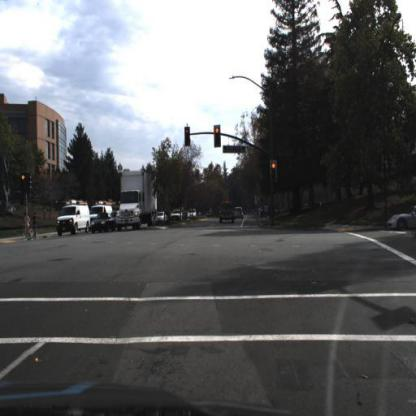biker: (17, 214, 31, 243), (24, 213, 32, 240), (33, 210, 38, 239)
car: (54, 204, 91, 235), (385, 204, 416, 234), (90, 203, 116, 228), (218, 198, 237, 226), (92, 212, 116, 233), (255, 202, 277, 218), (171, 209, 185, 224), (189, 206, 201, 223), (157, 210, 168, 224)
pedestrian: (30, 210, 42, 243), (29, 208, 40, 242), (114, 199, 125, 230)
trafficLight-Red: (212, 123, 222, 150), (269, 158, 278, 185)
trafficLight-RedLeft: (18, 173, 27, 196), (184, 124, 192, 147)
truck: (117, 171, 158, 232), (57, 201, 91, 236), (88, 202, 112, 226)
